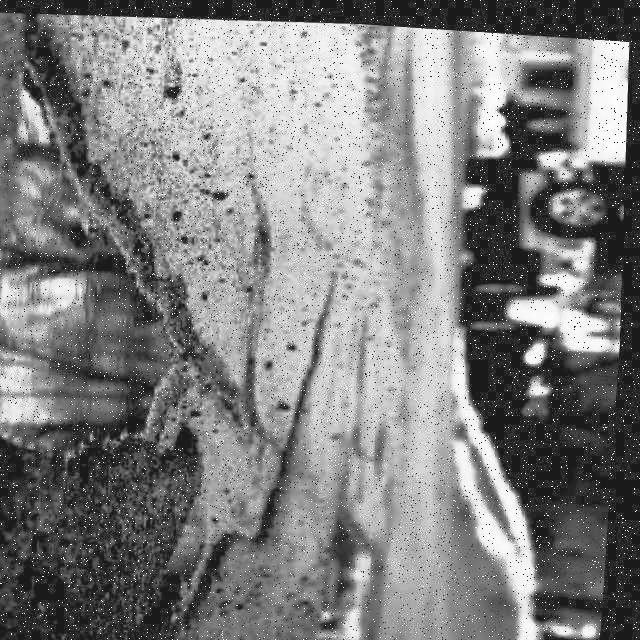Pothole: (0, 16, 243, 481), (116, 387, 314, 640), (309, 494, 402, 640)
